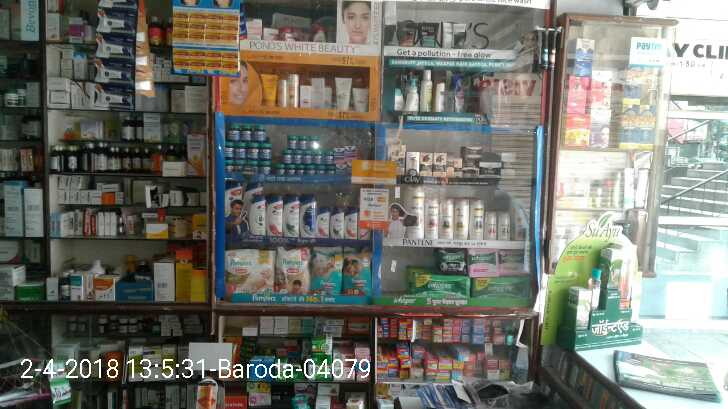vicks: (241, 124, 254, 142), (245, 143, 259, 159), (254, 125, 267, 142), (229, 124, 241, 142), (300, 136, 318, 148), (259, 144, 273, 159), (234, 160, 248, 175), (259, 161, 271, 177), (248, 160, 259, 177), (308, 150, 320, 163), (224, 142, 234, 157), (234, 143, 244, 157), (284, 165, 295, 176), (314, 165, 325, 176), (325, 168, 339, 176), (325, 152, 335, 163), (304, 165, 314, 175), (276, 164, 284, 176), (295, 165, 304, 175)
